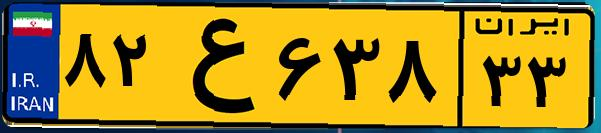2: (110, 28, 158, 98)
3: (330, 28, 385, 110), (475, 38, 525, 113), (525, 38, 570, 115)
6: (270, 28, 330, 110)
8: (385, 28, 445, 110), (57, 26, 110, 100)
ع: (158, 12, 270, 120)
